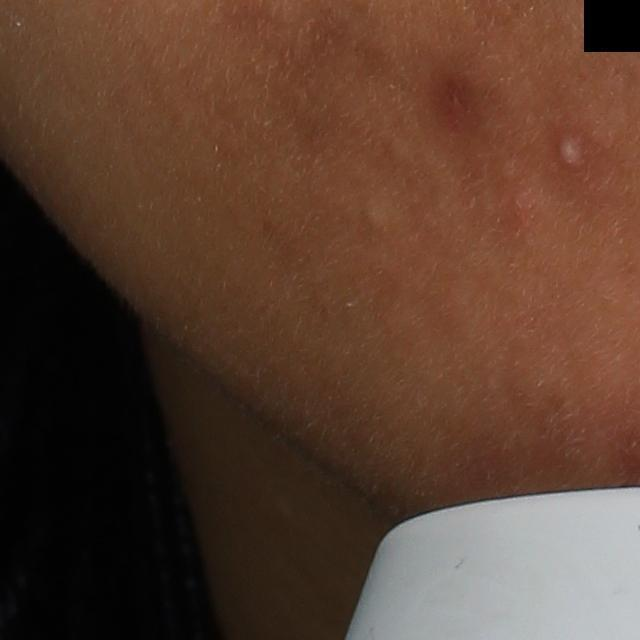comedo: (359, 202, 387, 233)
pustule: (553, 119, 594, 176)
